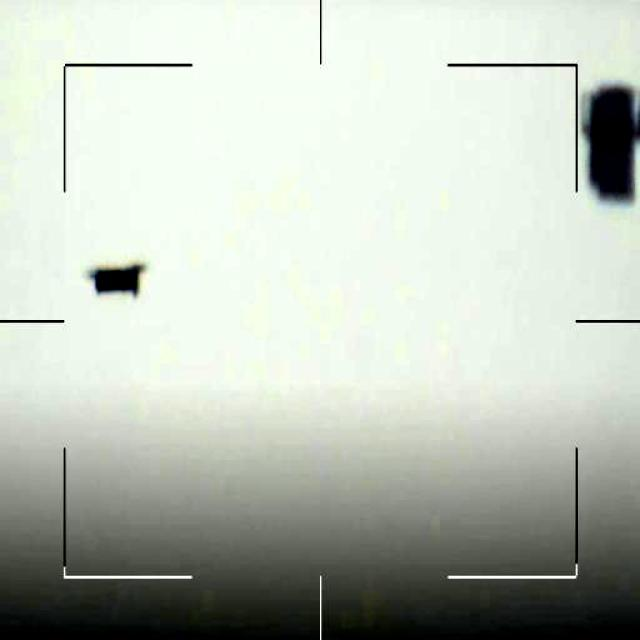bird: (90, 261, 141, 299)
